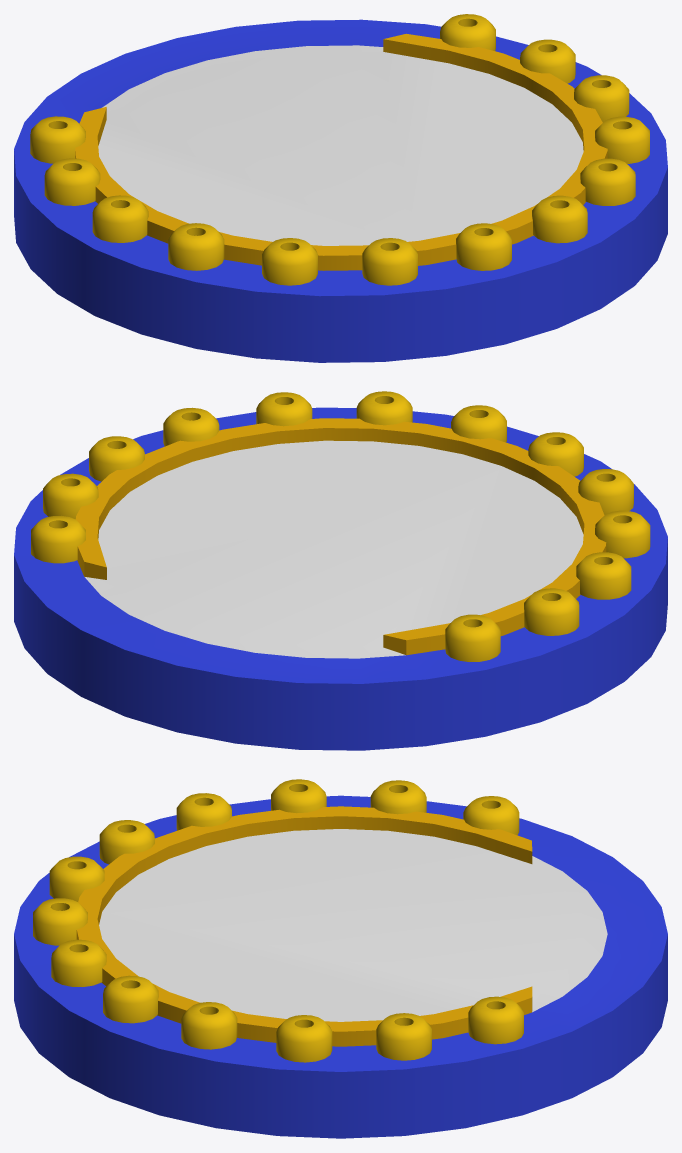
3 renders of one model, top to bottom at view 1: azimuth 30°, elevation 25°; view 2: azimuth 150°, elevation 25°; view 3: azimuth 270°, elevation 25°, orthographic.
Visible parts, largest first — view 1: Cylinder.010, Cylinder.012; view 2: Cylinder.010, Cylinder.012; view 3: Cylinder.010, Cylinder.012.
Boxes of the visible parts, bbox=[...] form: Cylinder.010: bbox=[14, 19, 667, 362]; Cylinder.012: bbox=[30, 14, 649, 285]; Cylinder.010: bbox=[14, 407, 667, 750]; Cylinder.012: bbox=[31, 391, 650, 661]; Cylinder.010: bbox=[14, 795, 667, 1138]; Cylinder.012: bbox=[33, 779, 523, 1062].
Size of the model in its own units: 532 by 85.07 by 532.
